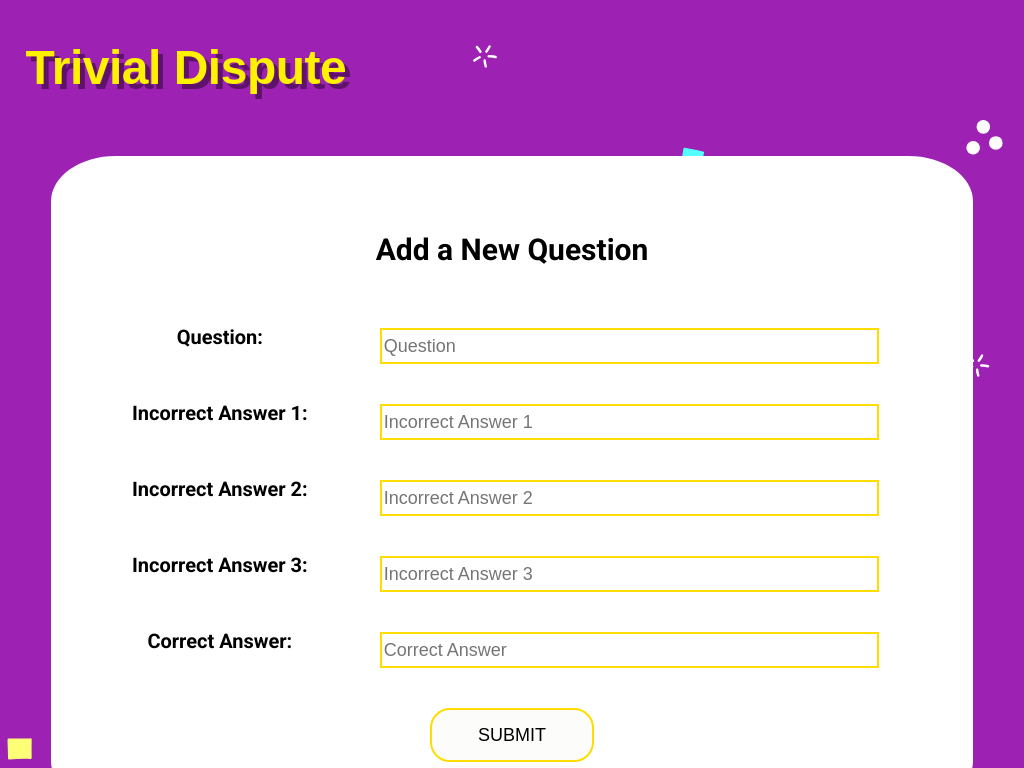
Test: Trivial Despute form page user flow › should successfully post question based on user input
Type "What year did the French Revolution begin?" into the field named "question" at (630, 347), box [380,329,880,365]
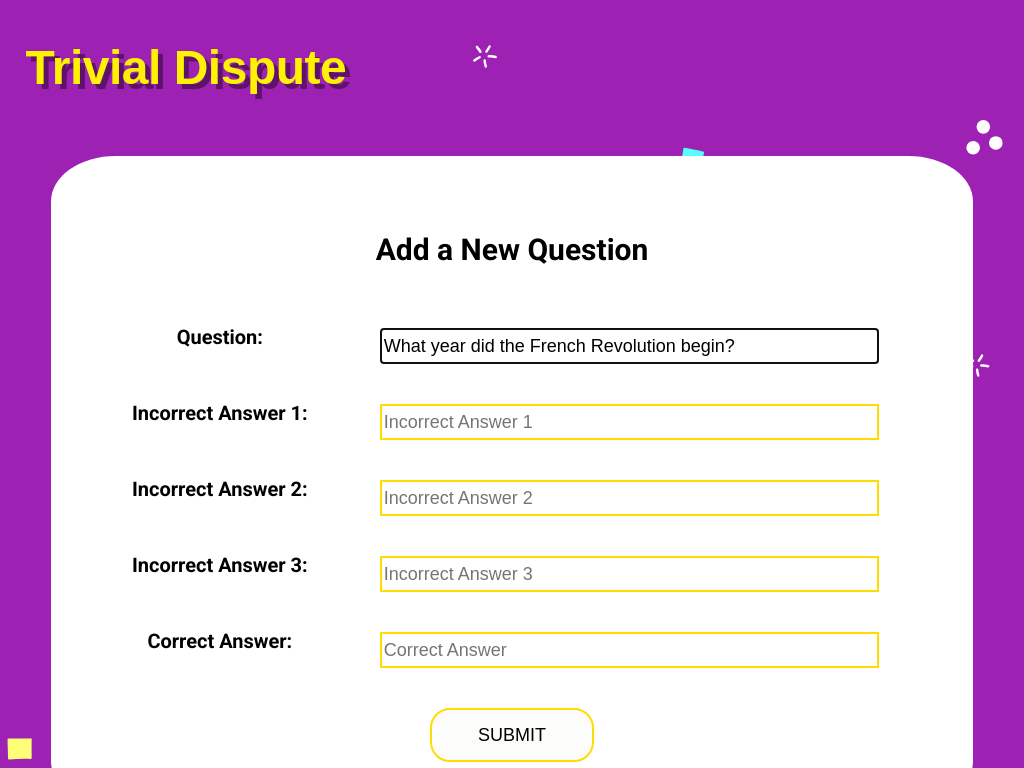
Type "1820" into the field named "incorrect_answer_1" at (630, 423), box [380,405,880,441]
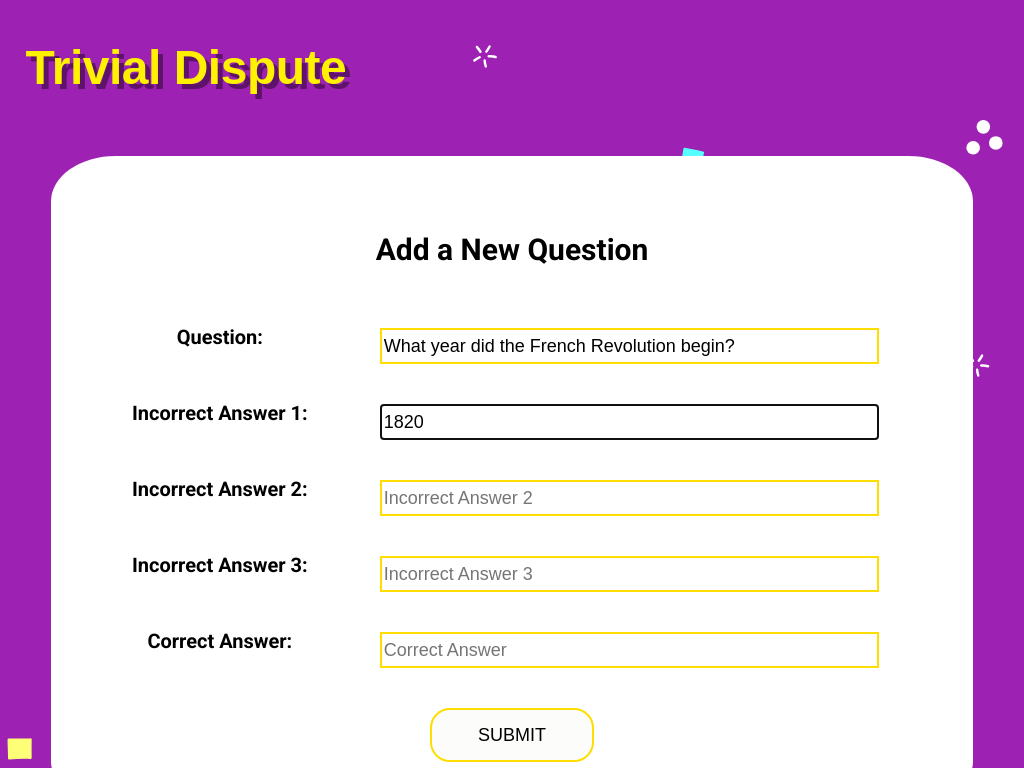
Type "1861" into the field named "incorrect_answer_2" at (630, 499), box [380,481,880,517]
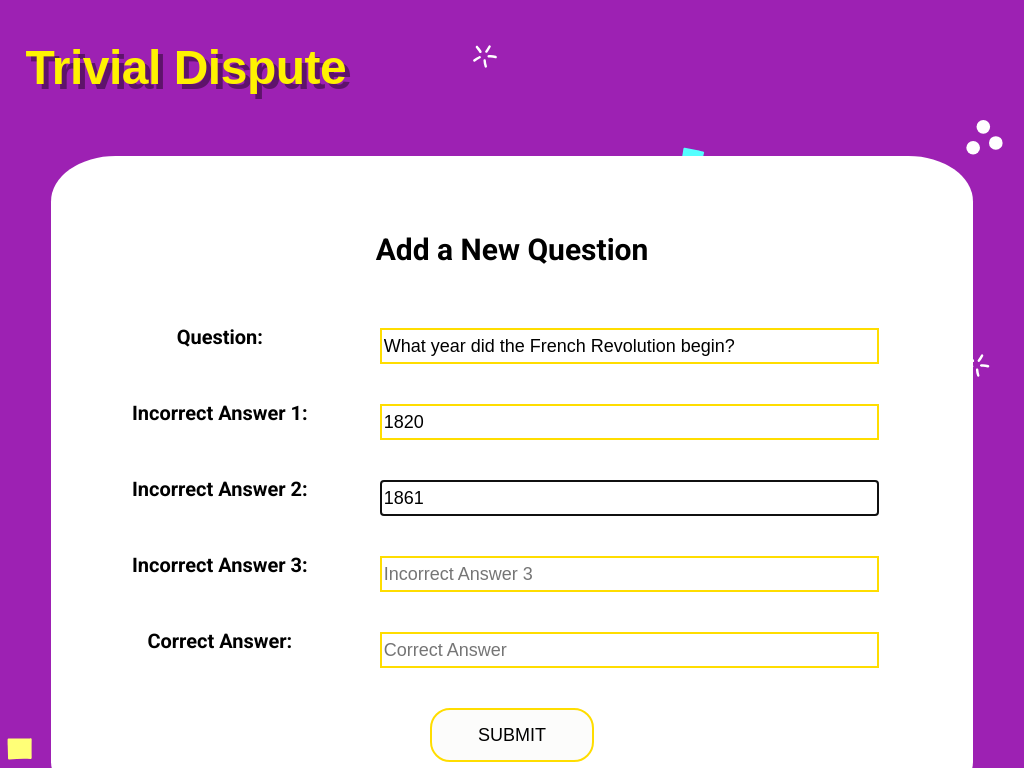
Type "1799" into the field named "incorrect_answer_3" at (630, 575), box [380,557,880,593]
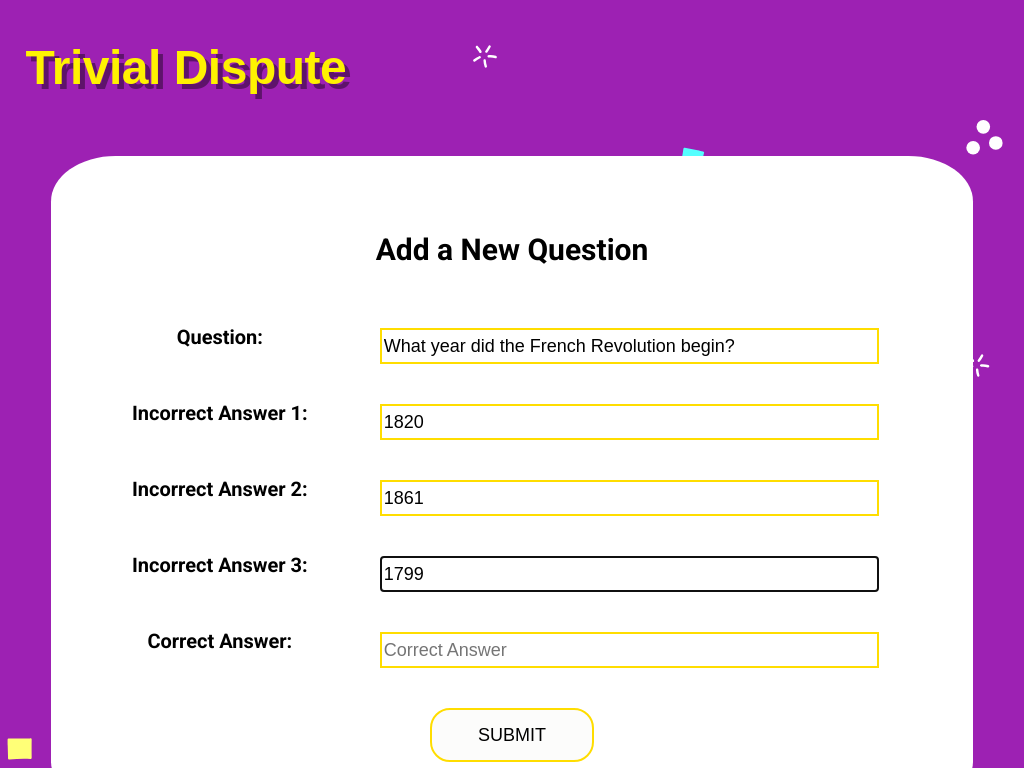
Type "1789" into the field named "correct_answer" at (630, 651), box [380,633,880,669]
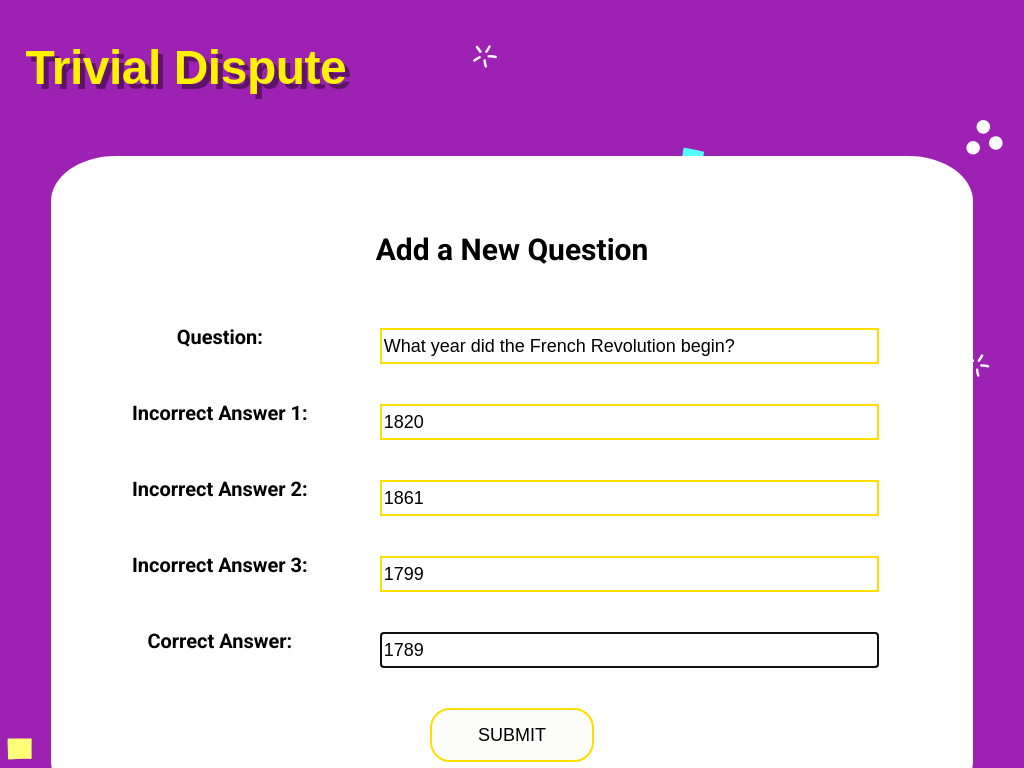
Click the button with class "new-question-button" at (512, 736), box [430,709,594,763]
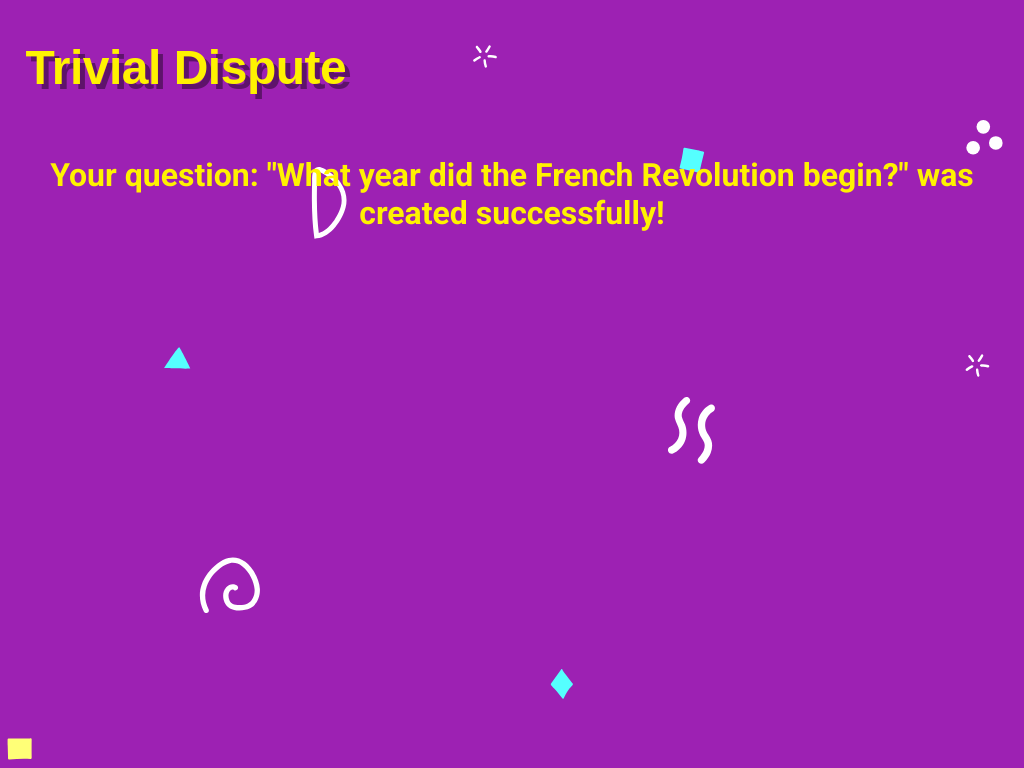
Now the heading "Your question: \"What year did the French Revolution begin?\" was created successfully!" is shown, box [50,156,974,232]
